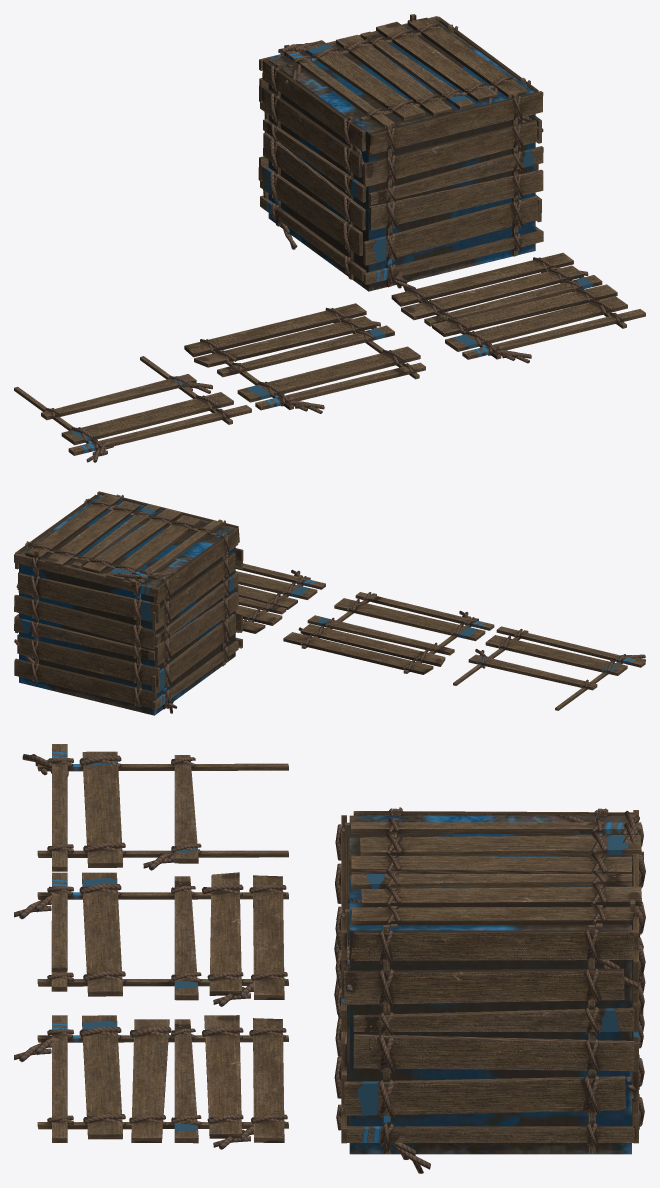
File: pallets.gltf
3 views of the same model, one above another, from view 1: azimuth 30°, elevation 25°; view 2: azimuth 150°, elevation 25°; view 3: azimuth 270°, elevation 25° (orthographic). The views are drawn at different scales.
Visible parts, largest first — view 1: Cube, Circle, Circle.001, Circle.002; view 2: Cube, Circle.001, Circle.002, Circle; view 3: Cube, Circle, Circle.001, Circle.002.
Part boxes in pixels (x1=…): Cube: x1=258, y1=14, x2=543, y2=291; Circle: x1=391, y1=252, x2=645, y2=363; Circle.001: x1=184, y1=303, x2=425, y2=413; Circle.002: x1=14, y1=356, x2=251, y2=462; Cube: x1=14, y1=491, x2=243, y2=715; Circle.001: x1=283, y1=592, x2=494, y2=674; Circle.002: x1=453, y1=626, x2=645, y2=710; Circle: x1=235, y1=563, x2=325, y2=633; Cube: x1=334, y1=807, x2=645, y2=1173; Circle: x1=14, y1=1015, x2=288, y2=1149; Circle.001: x1=14, y1=872, x2=288, y2=1006; Circle.002: x1=22, y1=744, x2=288, y2=871.
Size of the model in its own units: 16.6 by 5.02 by 11.18.
Materials: 1 (1 with a texture image).
